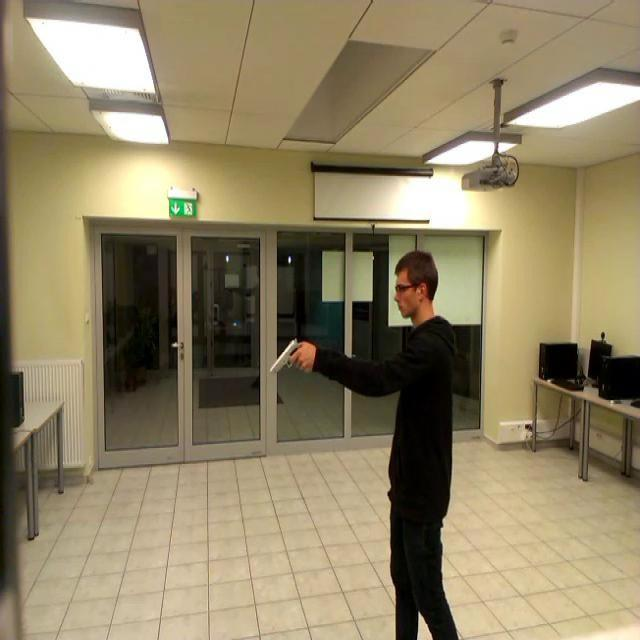weapon: (268, 339, 309, 377)
